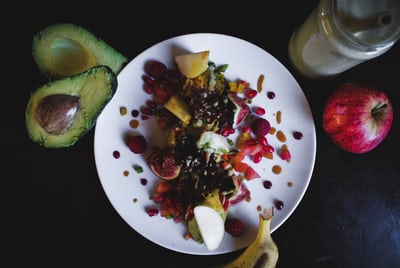apple: (320, 83, 395, 158)
